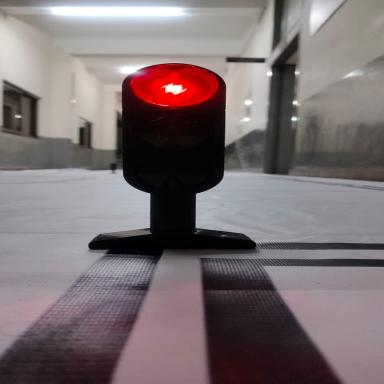traffic red: (93, 55, 291, 273)
